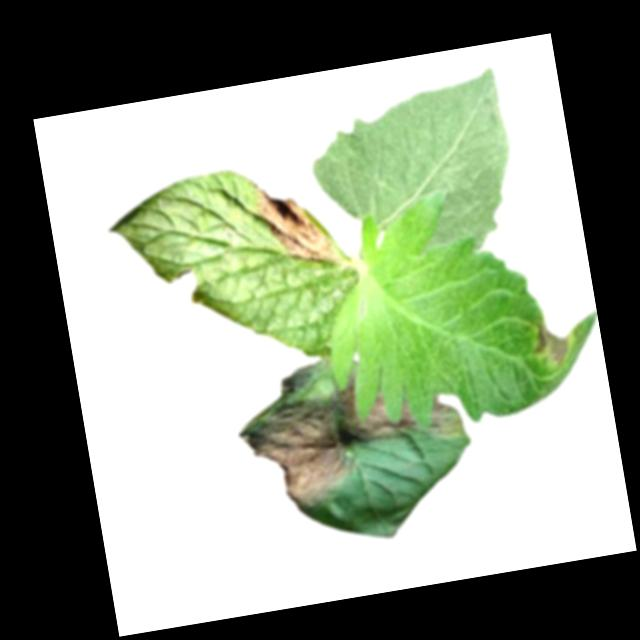Late_blight: (239, 391, 356, 519), (337, 367, 465, 455), (247, 172, 346, 281), (527, 308, 580, 372), (278, 358, 333, 398)
healthy: (299, 64, 526, 276)
